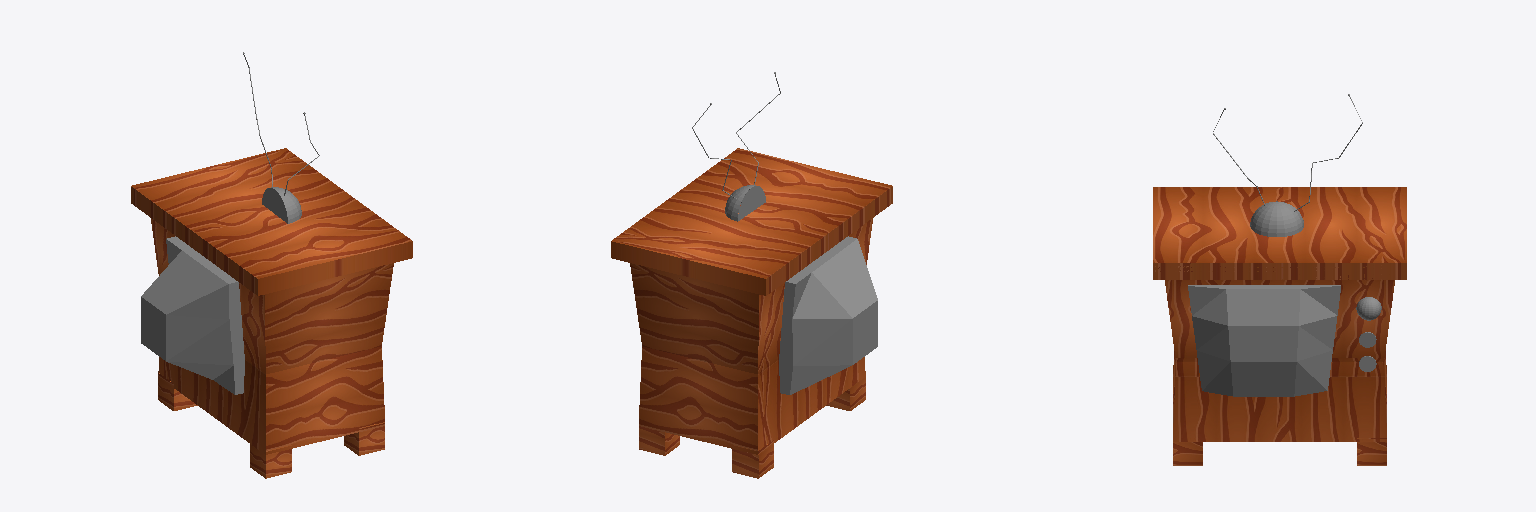
3 views of the same model, side by side, from view 1: azimuth 30°, elevation 25°; view 2: azimuth 150°, elevation 25°; view 3: azimuth 270°, elevation 25° (orthographic).
Visible parts, largest first — view 1: pSphere5; view 2: pSphere5; view 3: pSphere5.
Boxes of the visible parts, <box> form: pSphere5: <box>131,52,412,478</box>; pSphere5: <box>611,72,892,478</box>; pSphere5: <box>1153,94,1406,465</box>.
Size of the model in its own units: 1.86 by 3.06 by 2.05.
Materials: 2 (2 with a texture image).